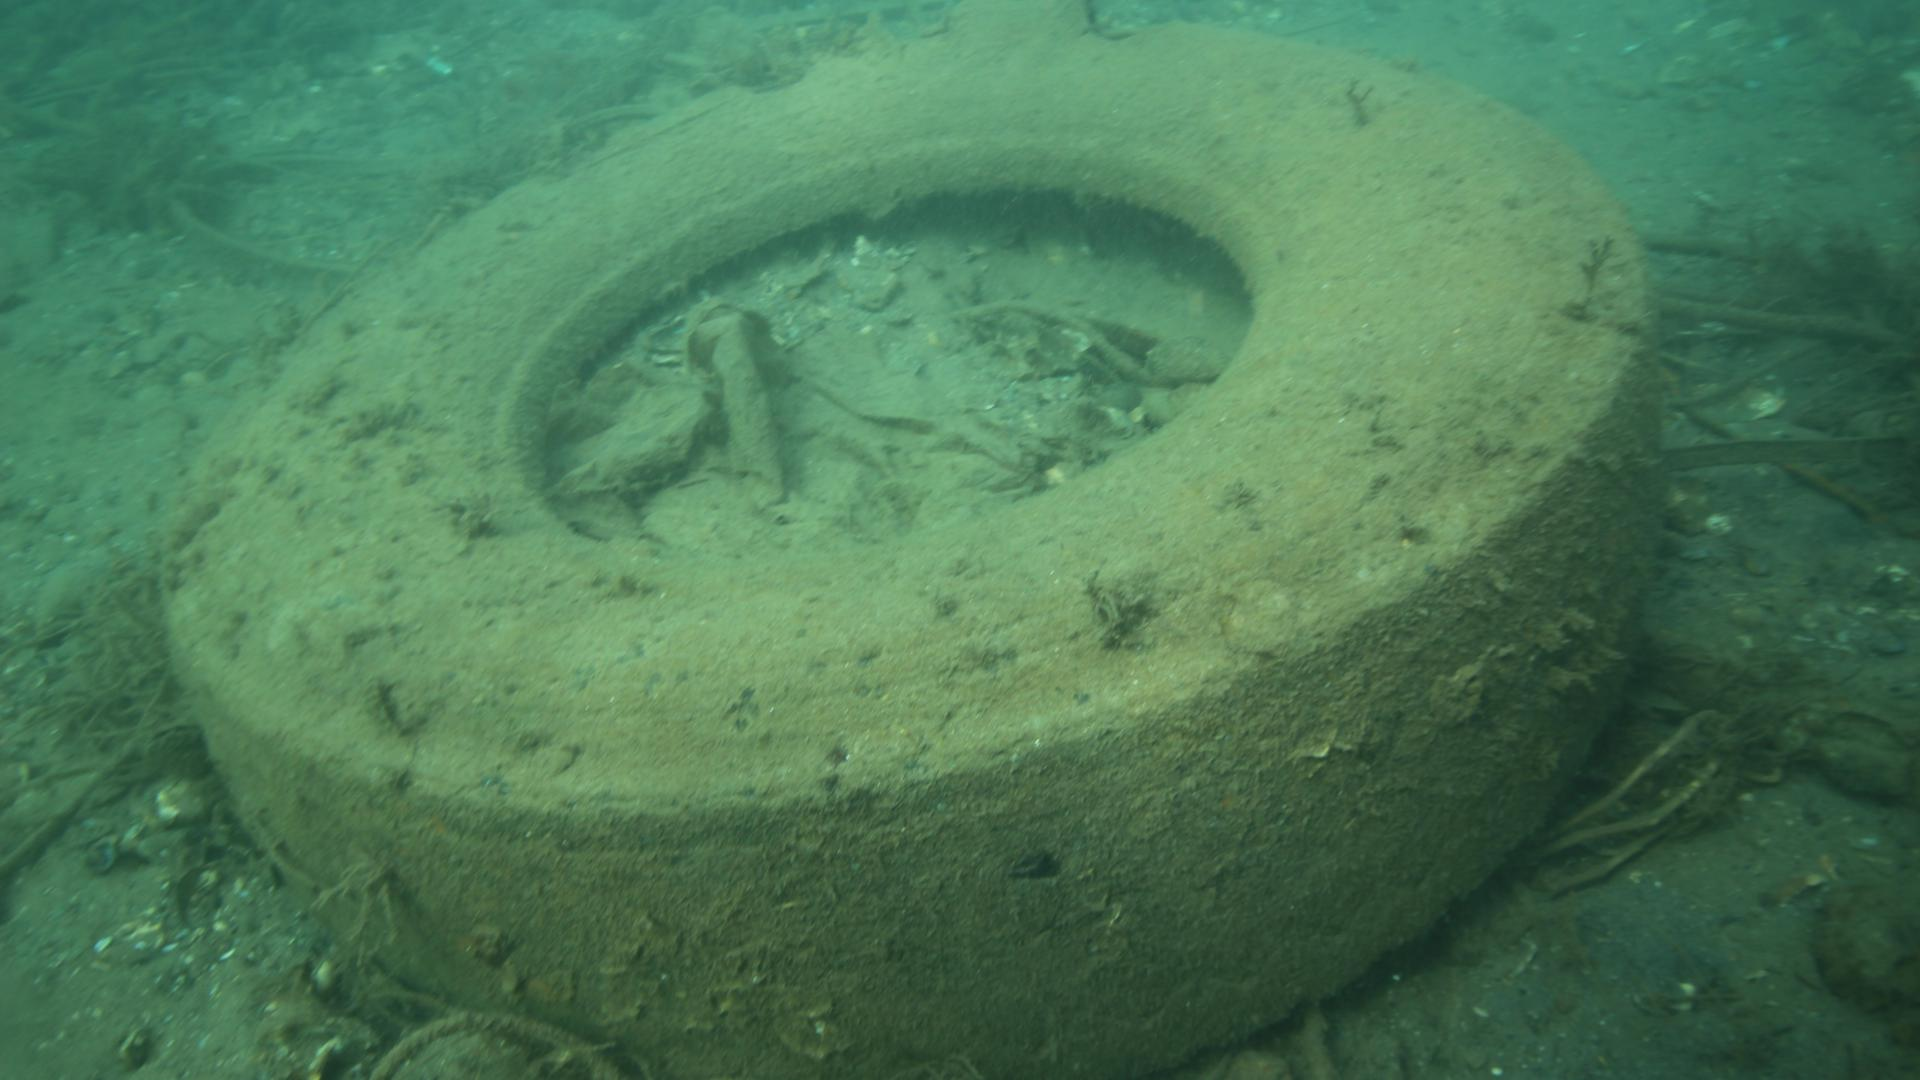tire: (158, 24, 1665, 1080)
